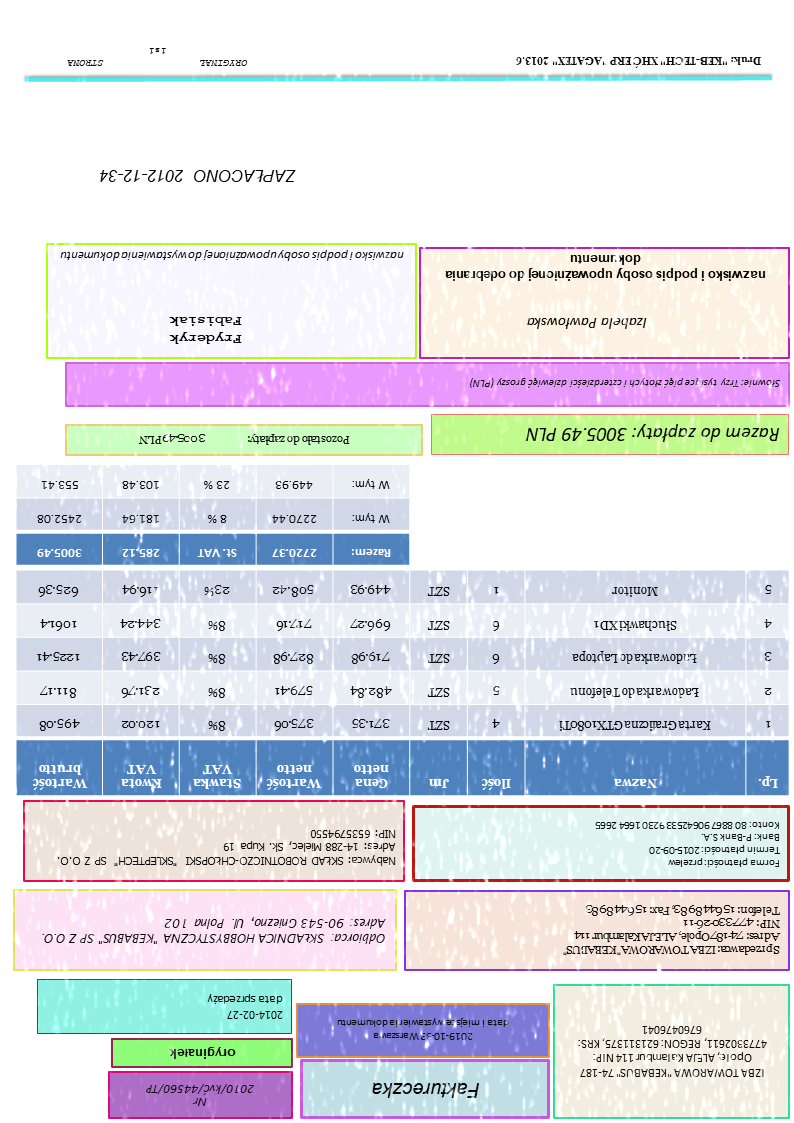Table: (15, 568, 791, 797), (14, 464, 412, 568)
TextBox: (55, 827, 398, 869), (561, 902, 783, 960), (576, 1023, 770, 1082), (39, 916, 390, 947), (444, 252, 768, 283), (595, 820, 783, 871), (58, 248, 407, 266), (523, 425, 782, 446), (334, 1015, 512, 1043), (467, 376, 782, 390), (66, 46, 249, 70), (513, 52, 765, 69), (96, 165, 299, 186), (143, 1079, 257, 1110), (137, 432, 353, 448), (165, 314, 245, 347), (206, 990, 285, 1022), (371, 1080, 481, 1101), (525, 315, 649, 331), (167, 1045, 239, 1062)
